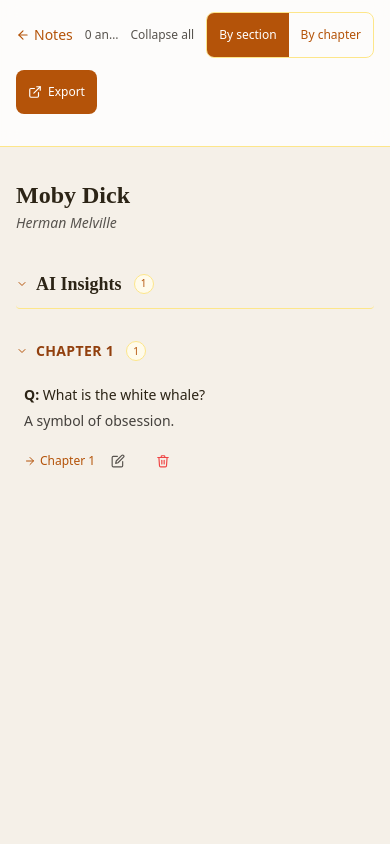
deleting insight removes it from the list optimistically
This screenshot has width=390, height=844.
Expected: the text "Q: What is the white whale?" is shown, 24,385 -> 205,404
What coordinates should you click on to do the following:
click the button titled "Delete insight"
I would click on:
 (163, 461)
Its box is 141,439 -> 185,483.
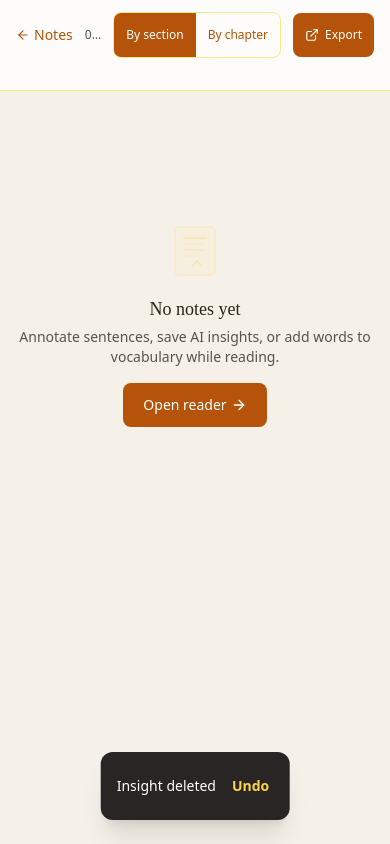
Expected: the text "What is the white whale" is gone
